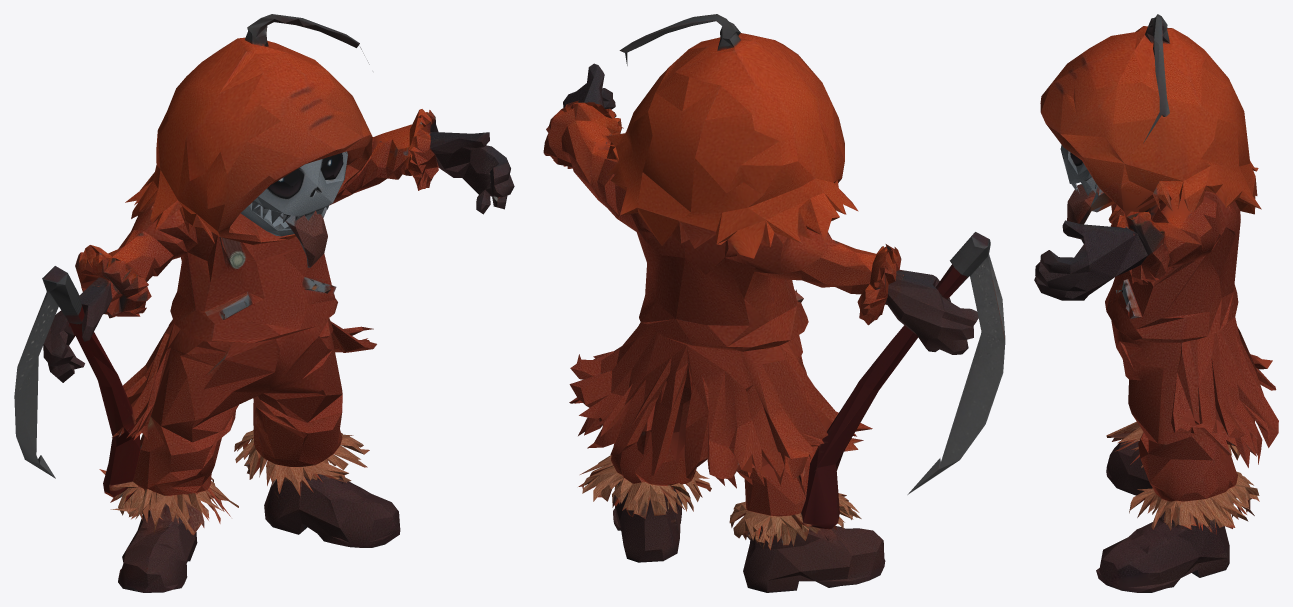
File: hw-scarecrow.glb
The picture shows the model from 3 angles, left to right: view 1: azimuth 30°, elevation 25°; view 2: azimuth 150°, elevation 25°; view 3: azimuth 270°, elevation 25°; orthographic projection.
Size of the model in its own units: 1.73 by 1.9 by 0.8004.
Materials: 1 (1 with a texture image).
